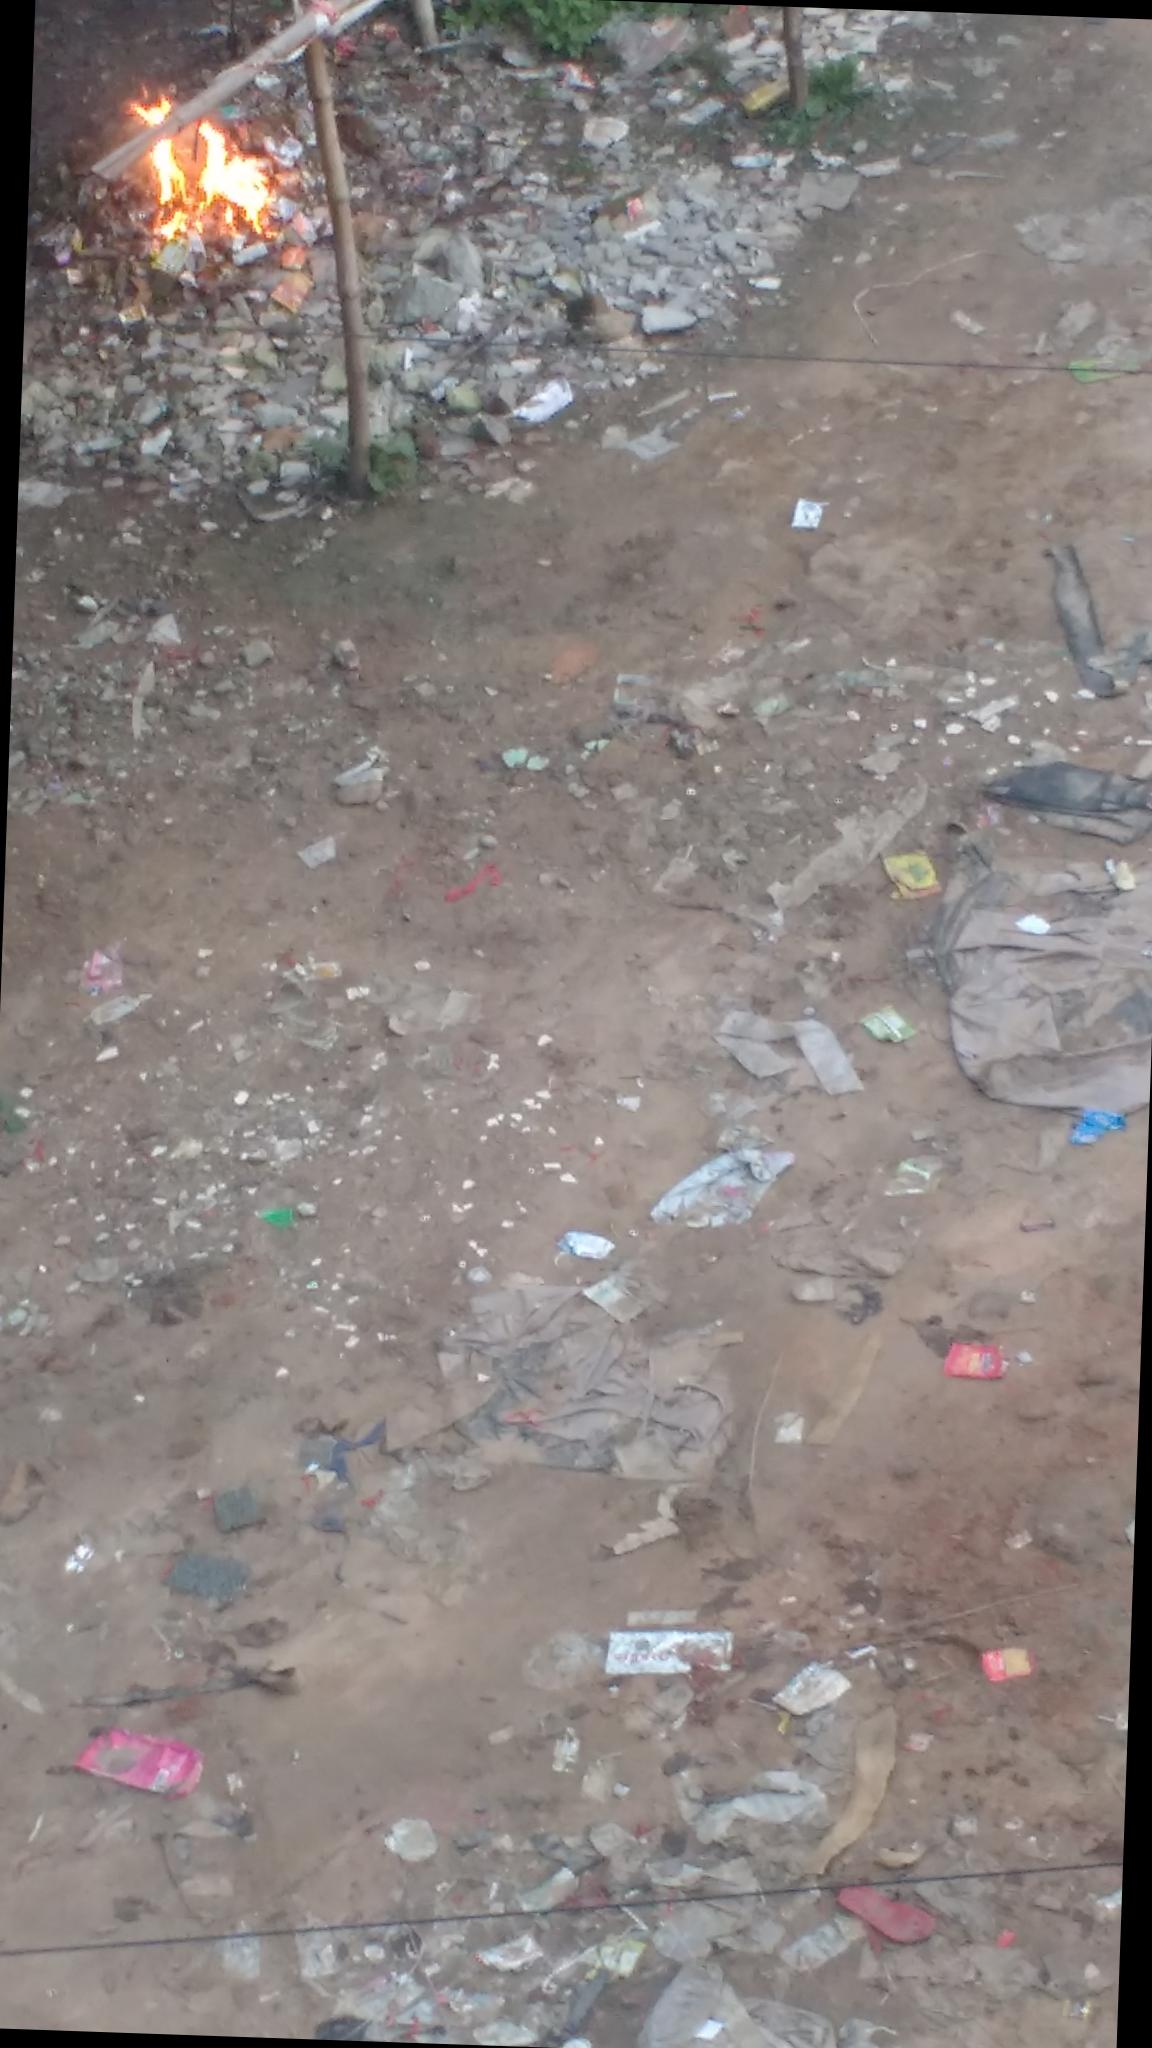Fire: (120, 84, 293, 250)
